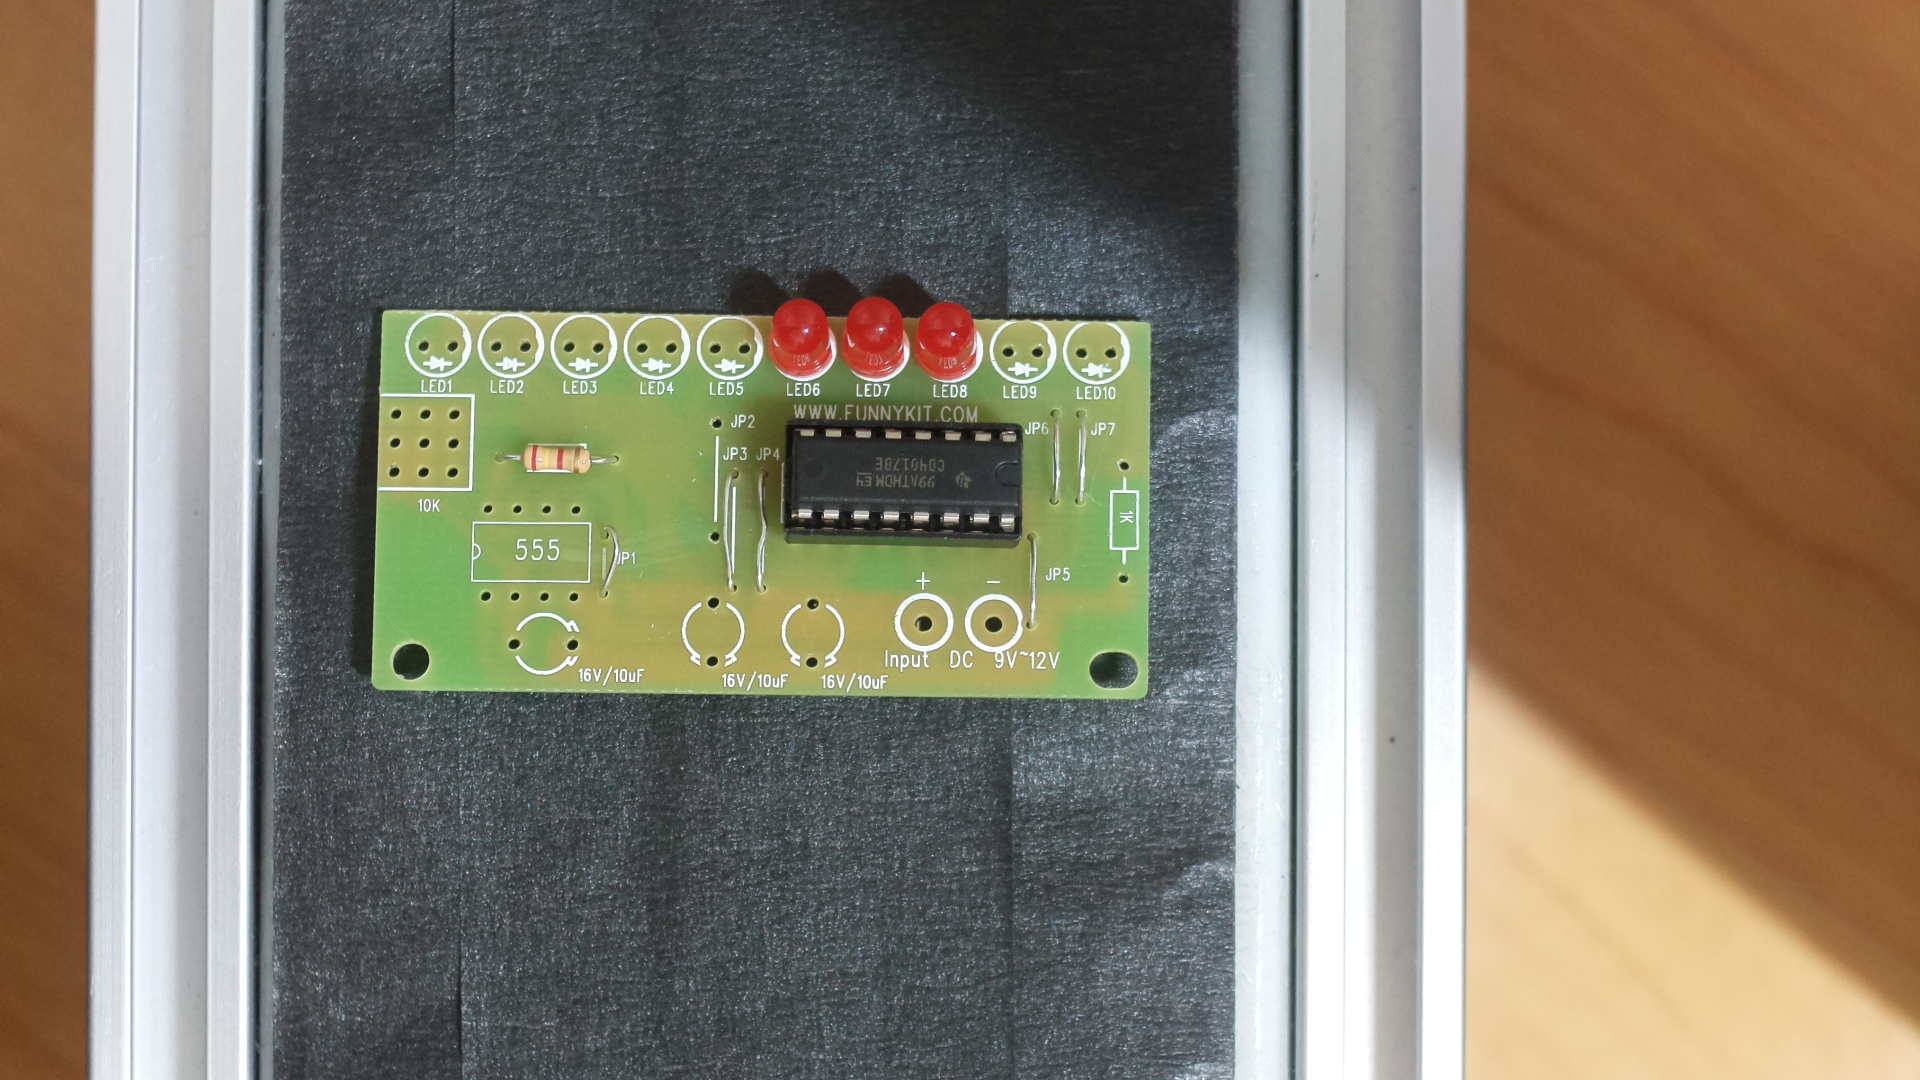B_Missing_part: (368, 284, 1171, 720)
